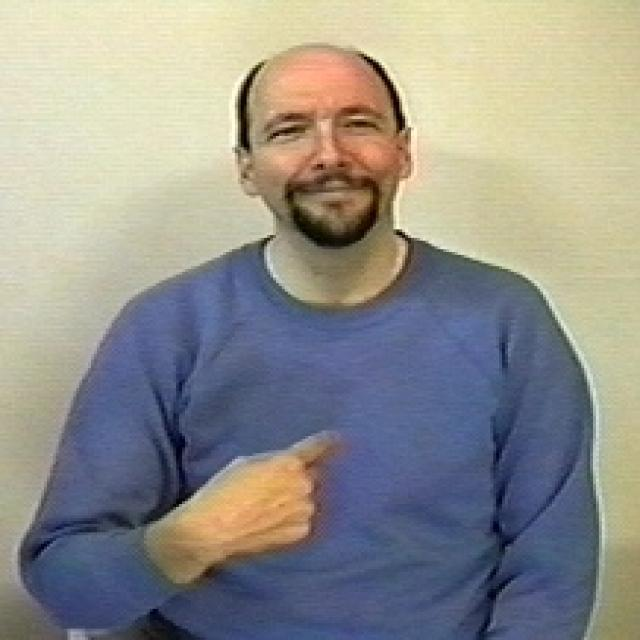i: (165, 418, 365, 574)
